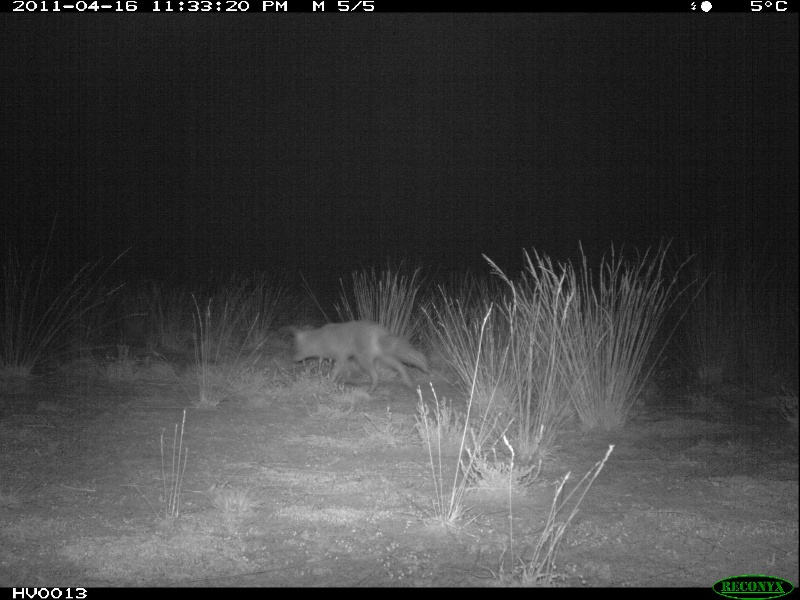fox: (289, 319, 429, 394)
